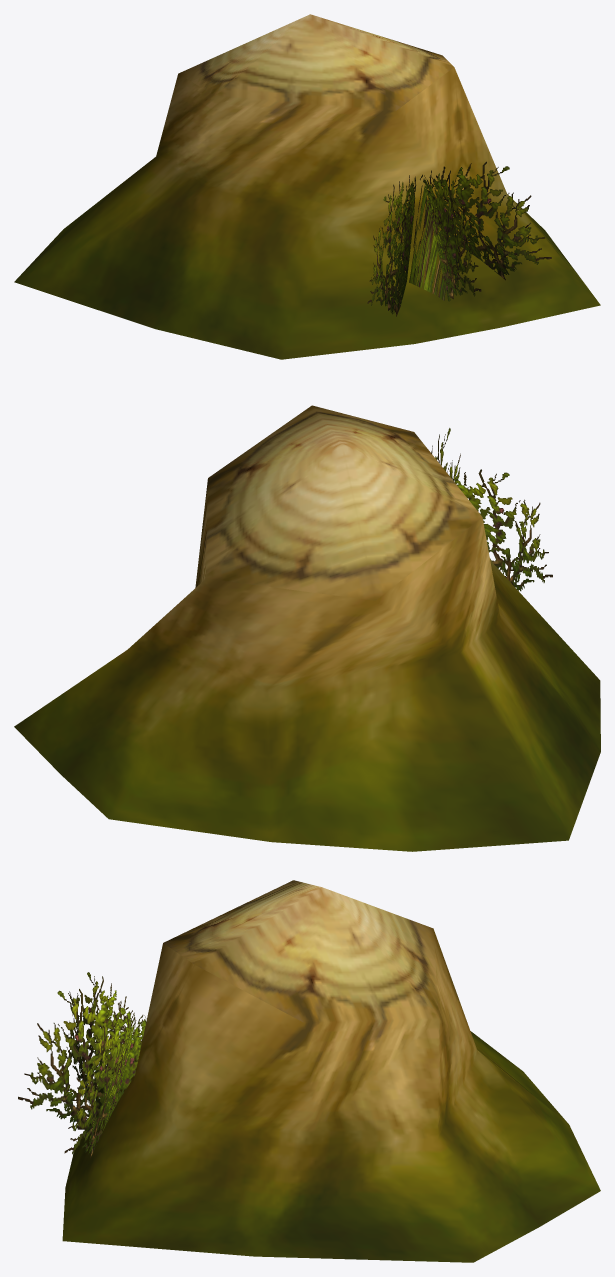
The model's file is elwynntreestump02.glb.
The picture shows the model from 3 angles, top to bottom: view 1: azimuth 30°, elevation 25°; view 2: azimuth 150°, elevation 25°; view 3: azimuth 270°, elevation 25°; orthographic projection. The views are drawn at different scales.
Bounding box in the file's own units: 4.7 × 2.41 × 4.82.
Materials: 2 (2 with a texture image).
